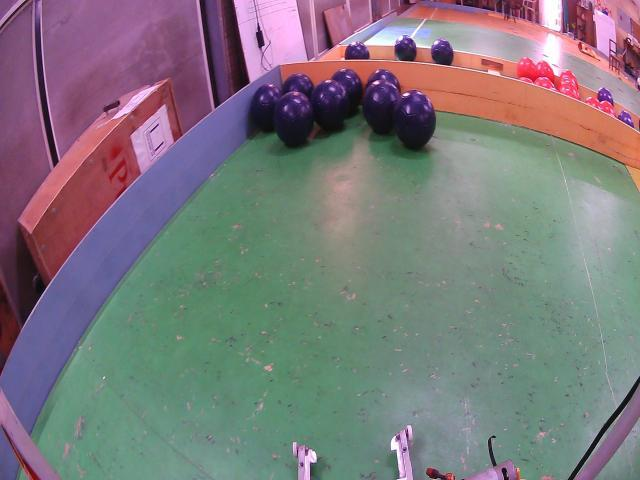jambhalya: (598, 87, 614, 105), (618, 110, 634, 128)
kaalyya: (392, 90, 436, 148), (274, 92, 314, 147), (362, 80, 400, 133), (310, 80, 349, 130), (250, 83, 282, 132), (332, 68, 362, 114), (366, 68, 400, 92), (282, 73, 314, 98), (431, 38, 454, 65), (394, 35, 416, 62), (345, 42, 370, 60)
